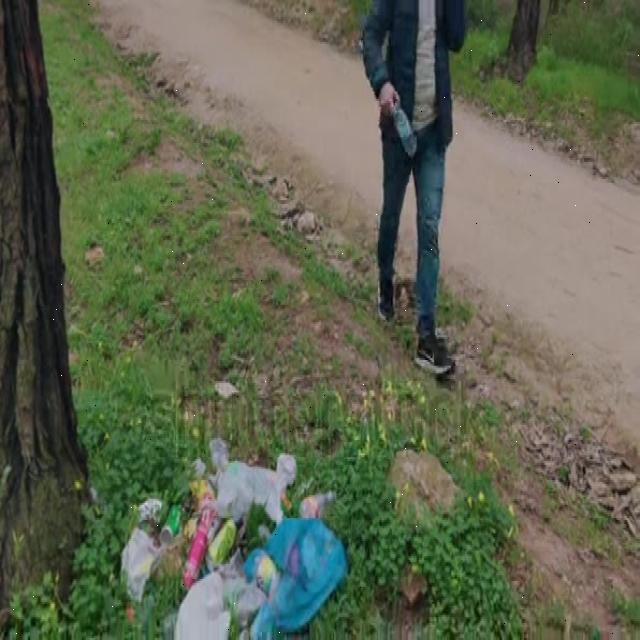garbage_dumping: (124, 432, 351, 640), (390, 92, 419, 164)
